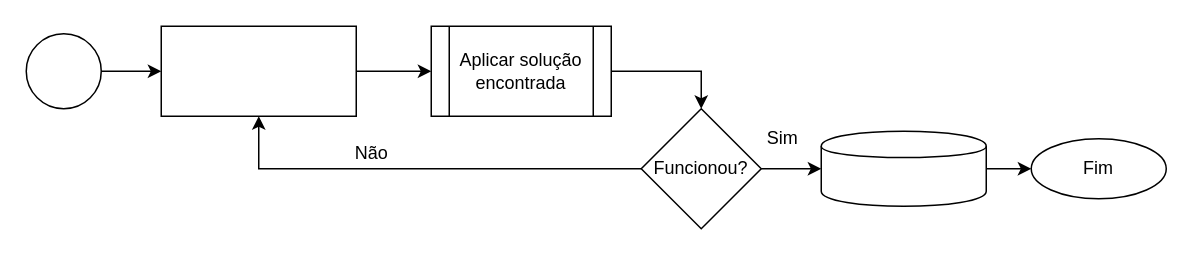
The diagram is 1193 pixels wide and 255 high, and some of its shapes have lost their labels. The shapes that lost their labels are listed below. From the top down, each one's centre as x and y in pixels, then its label:
At pixel 258 70: "Identificar solução".
At pixel 903 168: "Registrar na base de conhecimento".
